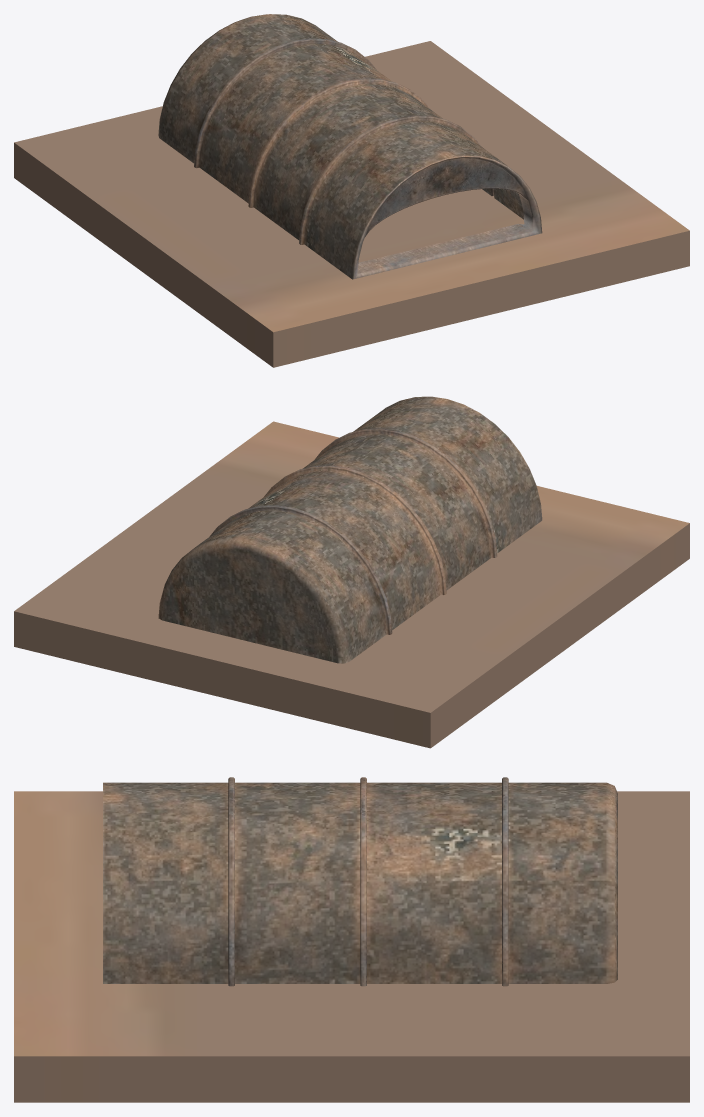
File: hangar.glb
The picture shows the model from 3 angles, top to bottom: view 1: azimuth 30°, elevation 25°; view 2: azimuth 150°, elevation 25°; view 3: azimuth 270°, elevation 25°; orthographic projection. The views are drawn at different scales.
Visible parts, largest first — view 1: Cube, Hangar1; view 2: Cube, Hangar1; view 3: Cube, Hangar1.
Part boxes in pixels (box(x1,y1,x2,y2)): Cube: box(14, 41, 689, 367); Hangar1: box(158, 14, 542, 279); Cube: box(14, 421, 689, 748); Hangar1: box(158, 396, 542, 663); Cube: box(14, 791, 689, 1102); Hangar1: box(103, 777, 617, 986).
Size of what is drawn, in the model's own units: 27.09 by 8.54 by 29.2.
1 material, 1 textured.
